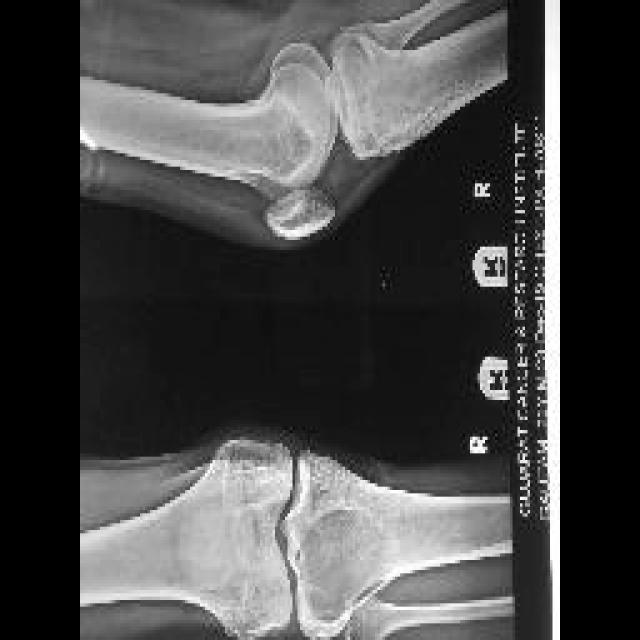bone-cancer: (292, 502, 395, 627)
